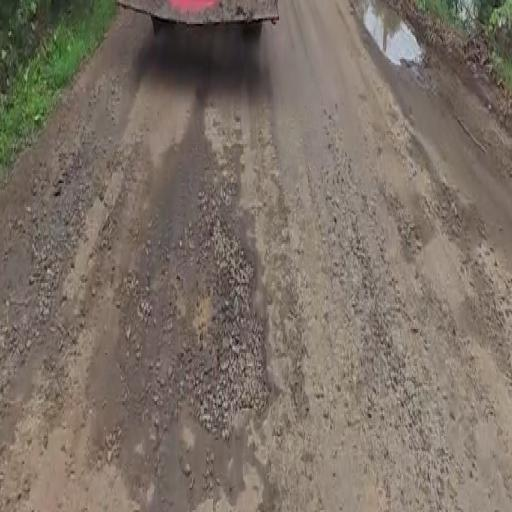ravelling: (93, 101, 498, 477)
